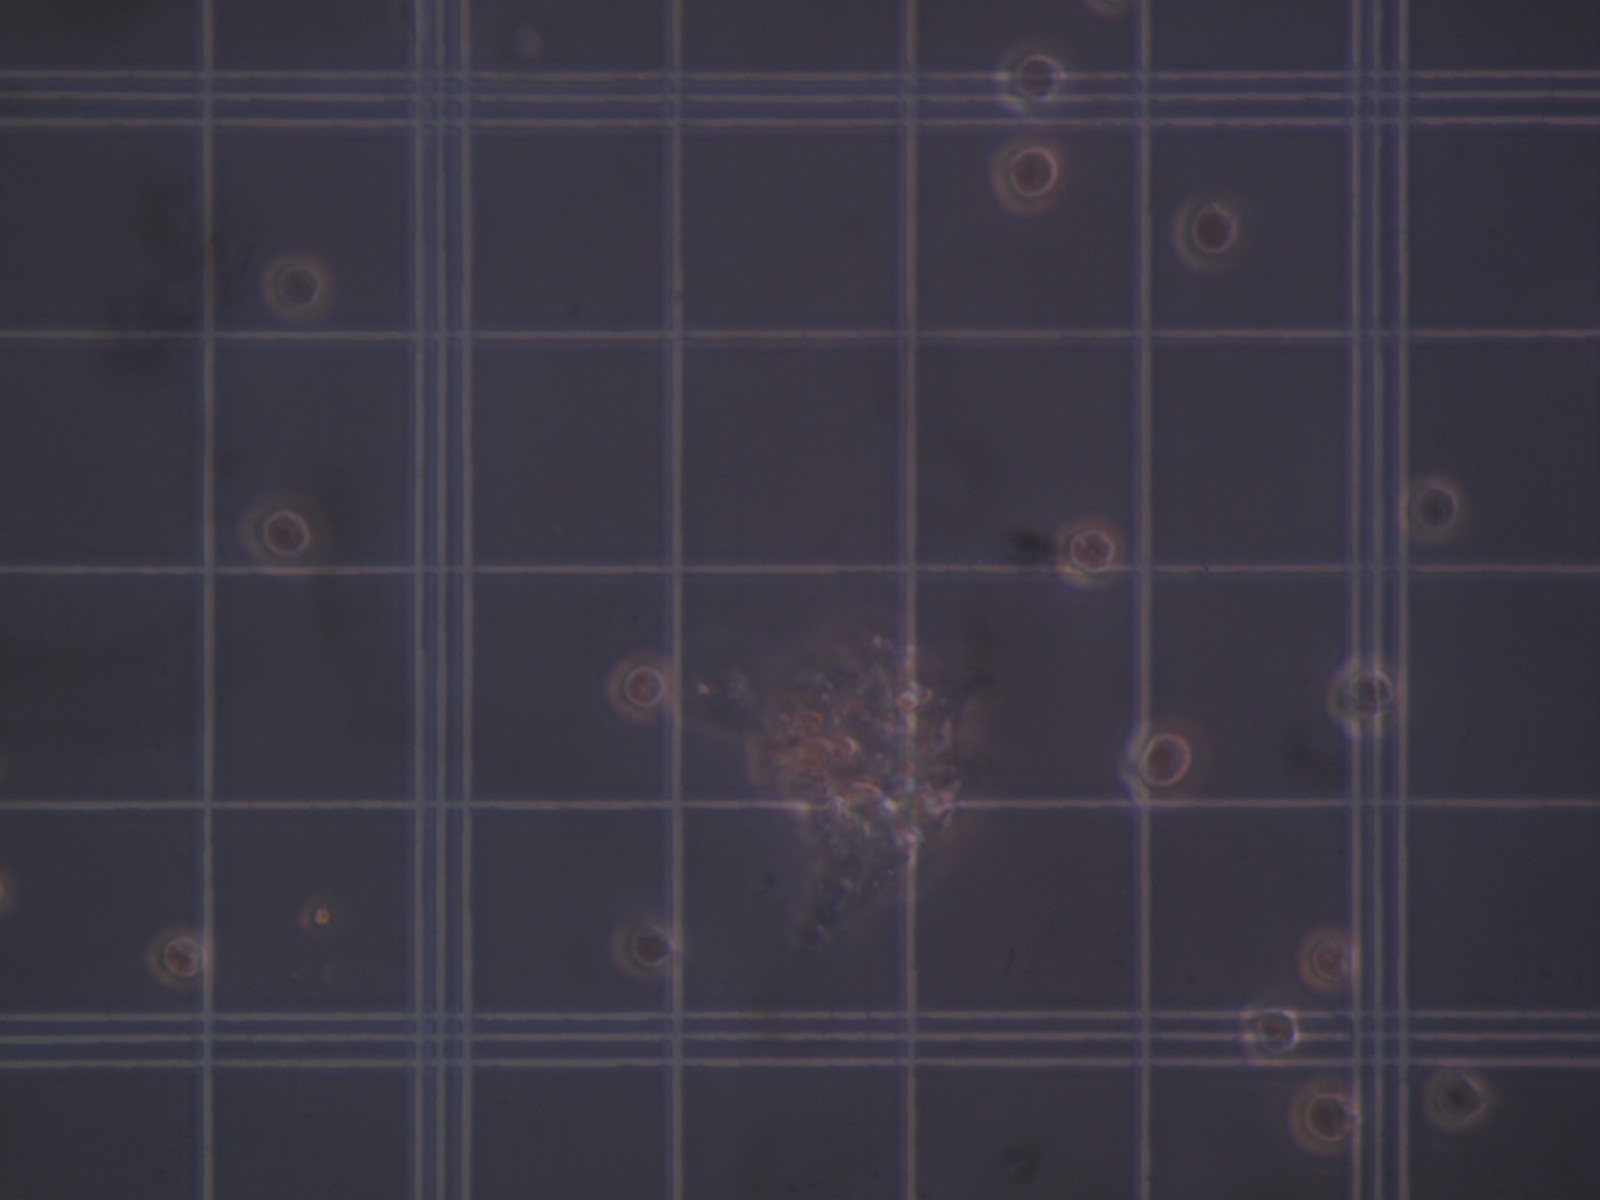hemo: (1119, 713, 1207, 808), (234, 493, 323, 579), (1327, 659, 1398, 740), (990, 142, 1067, 214), (603, 650, 674, 726), (1054, 516, 1126, 589), (1396, 471, 1466, 546), (1289, 1082, 1359, 1155), (1173, 198, 1238, 275), (1422, 1060, 1492, 1131), (993, 45, 1065, 113), (261, 252, 329, 324), (609, 916, 684, 979), (144, 921, 210, 989), (1238, 1005, 1300, 1069), (1300, 926, 1361, 989)
